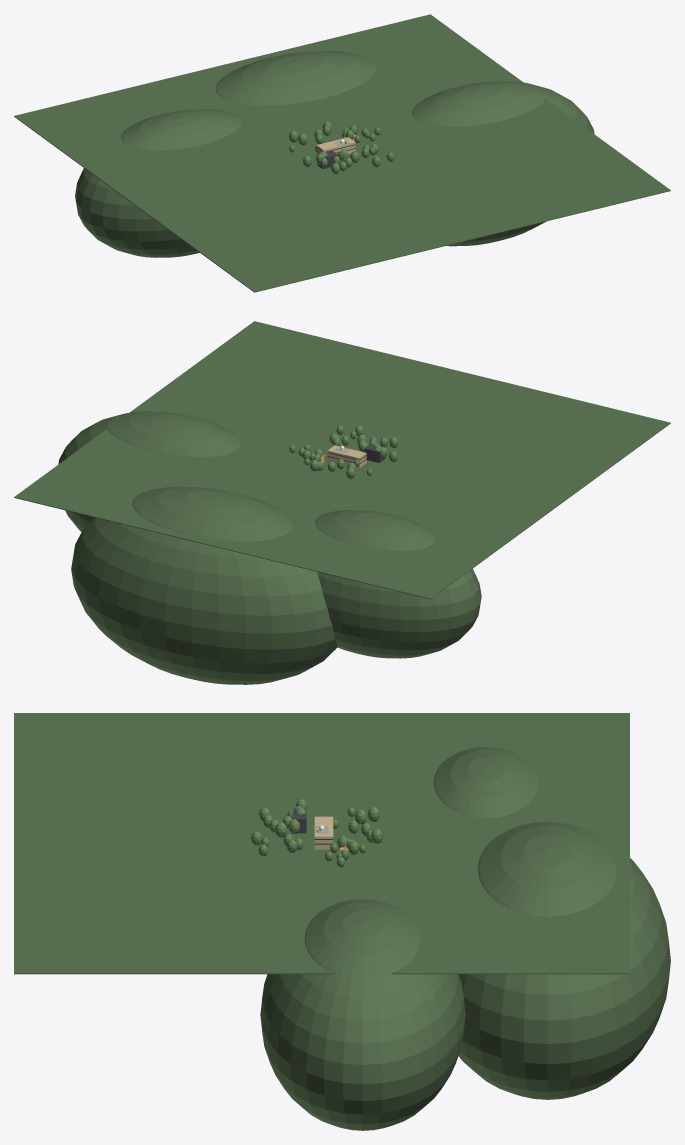
Rendered from observatory.glb.
3 views of the same model, one above another, from view 1: azimuth 30°, elevation 25°; view 2: azimuth 150°, elevation 25°; view 3: azimuth 270°, elevation 25° (orthographic). The views are drawn at different scales.
Visible parts, largest first — view 1: Ground, Hill0, Hill1, Hill2; view 2: Ground, Hill1, Hill0, Hill2; view 3: Ground, Hill1, Hill2, Hill0.
Boxes of the visible parts, x1=… form: Ground: x1=14, y1=14, x2=670, y2=292; Hill0: x1=75, y1=109, x2=241, y2=257; Hill1: x1=215, y1=50, x2=376, y2=105; Hill2: x1=412, y1=81, x2=594, y2=246; Ground: x1=14, y1=321, x2=670, y2=599; Hill1: x1=71, y1=486, x2=337, y2=684; Hill0: x1=315, y1=510, x2=481, y2=658; Hill2: x1=58, y1=411, x2=240, y2=531; Ground: x1=14, y1=713, x2=629, y2=974; Hill1: x1=458, y1=821, x2=670, y2=1099; Hill2: x1=260, y1=899, x2=465, y2=1130; Hill0: x1=433, y1=747, x2=538, y2=817.
Bounding box in the file's own units: 680 × 240 × 640.
